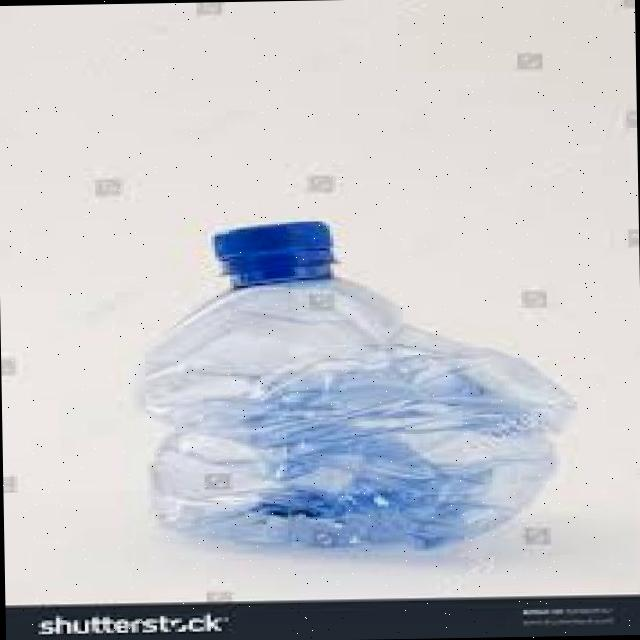bottle: (122, 203, 602, 555)
cap: (203, 225, 338, 294)
